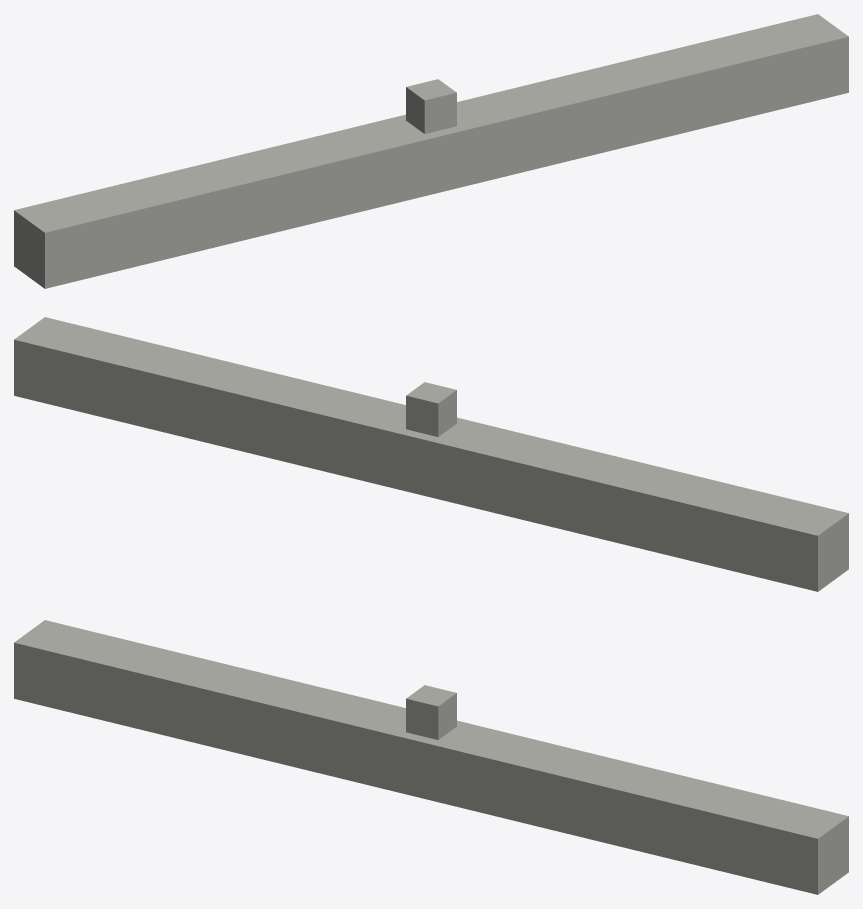
File: 0052_Paperweight.glb
The picture shows the model from 3 angles, top to bottom: view 1: azimuth 30°, elevation 25°; view 2: azimuth 150°, elevation 25°; view 3: azimuth 330°, elevation 25°; orthographic projection.
Visible parts, largest first — view 1: part_0; view 2: part_0; view 3: part_0.
Boxes of the visible parts, x1,y1,x2,y2 form: part_0: [14, 14, 848, 288]; part_0: [14, 317, 848, 591]; part_0: [14, 620, 848, 894].
Size of the model in its own units: 0.195 by 0.0208 by 0.013.
1 material, 1 textured.
